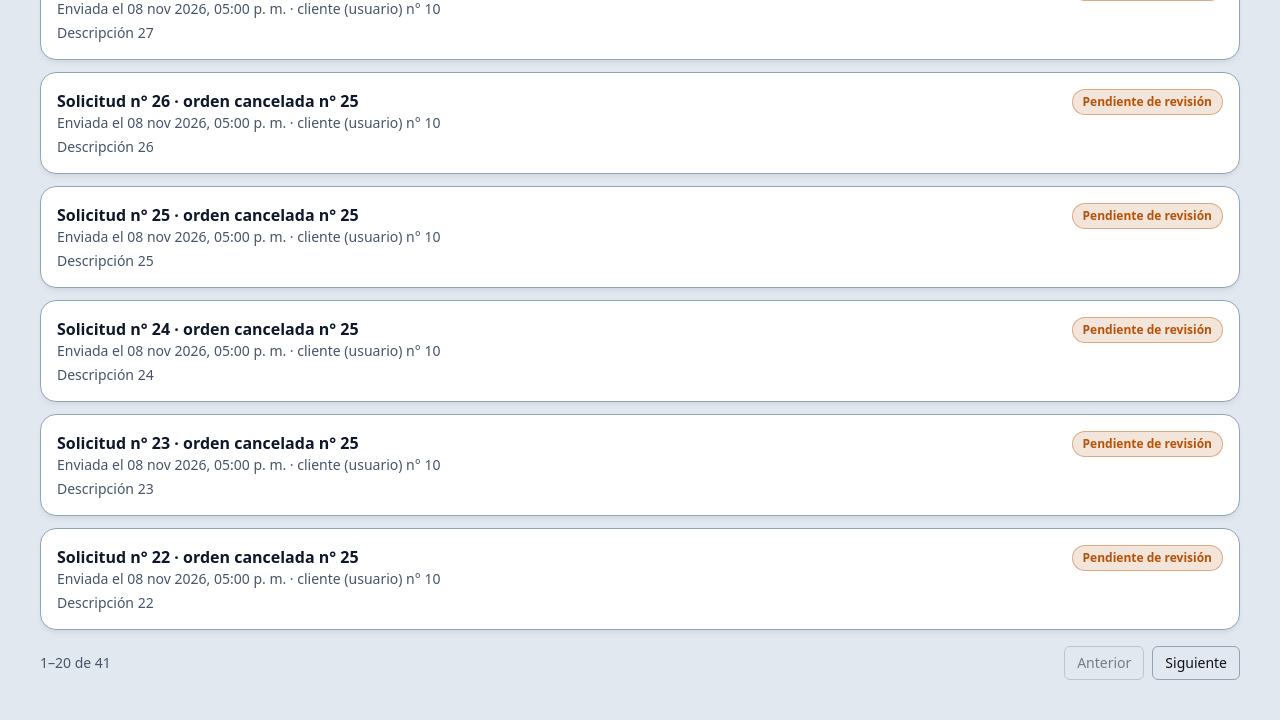
Test: AdminNuevasAtencionesPage › pagina en el servidor
(page scrolled)
Check: the text "1–20 de 41" is shown, box left=40, top=653, right=111, bottom=673
Click the button "Siguiente". click: (1196, 663)
box: left=1152, top=646, right=1240, bottom=680
(page scrolled)
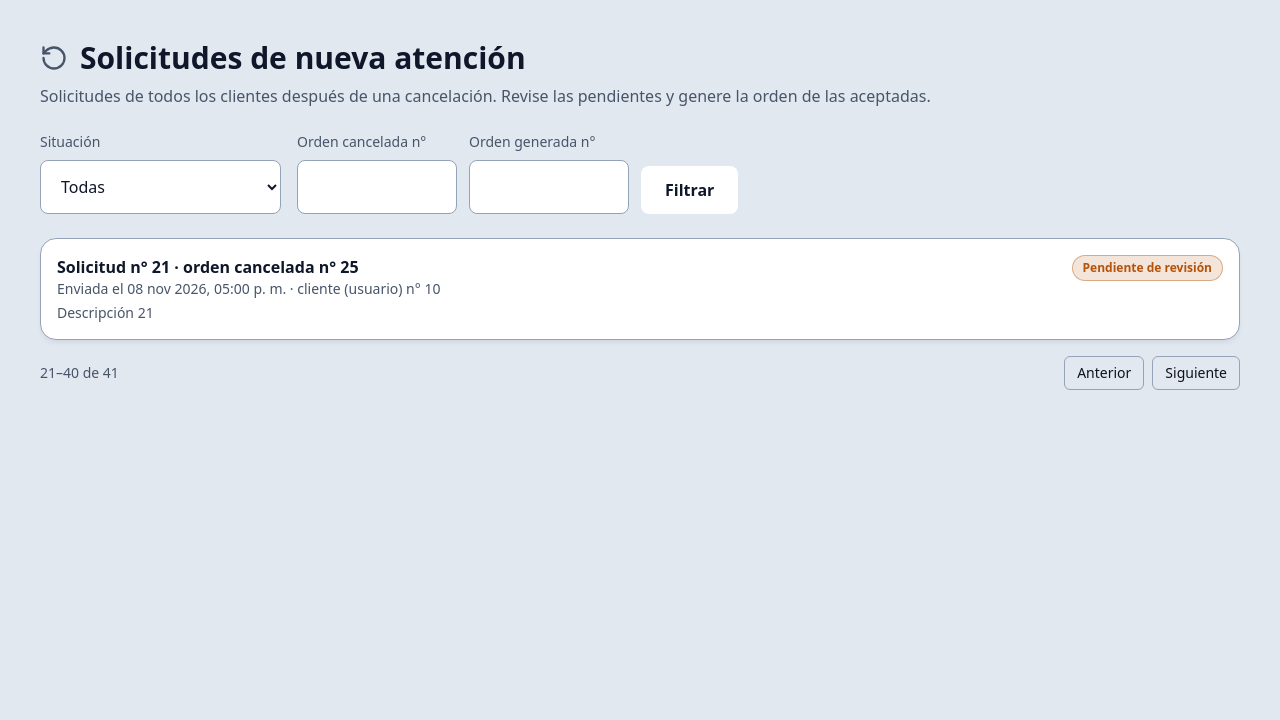
Check: the text "21–40 de 41" is shown, box left=40, top=363, right=119, bottom=383
